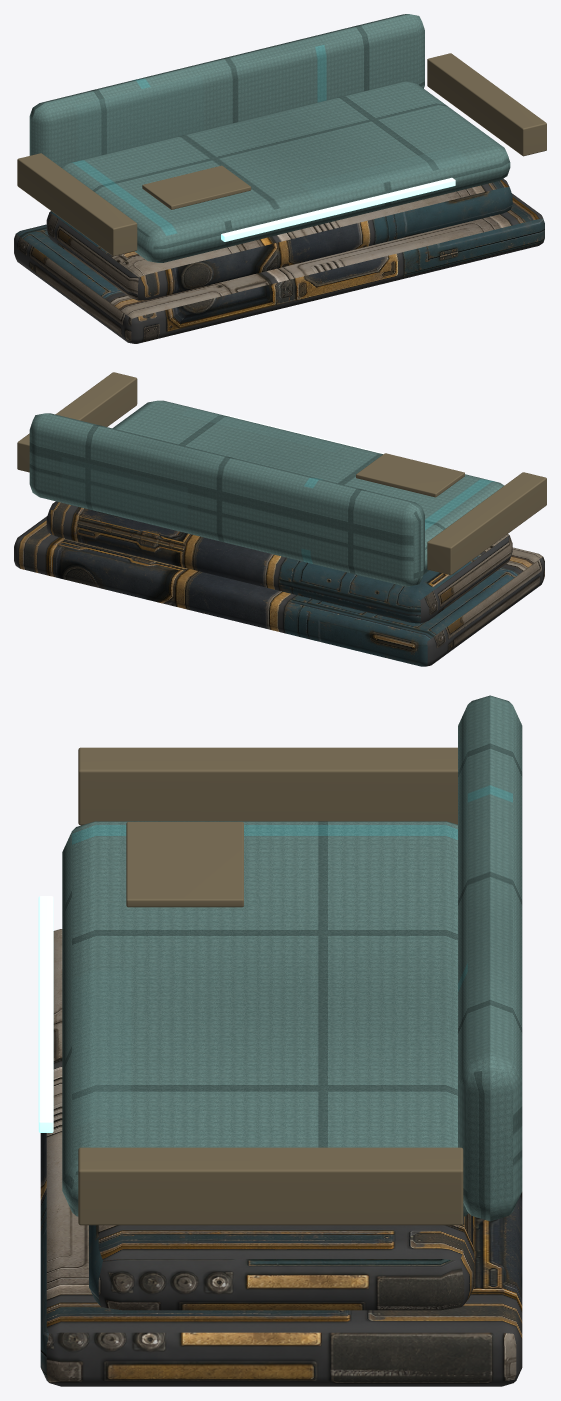
File: hp_room_residential_recovery_bed.glb
3 renders of one model, top to bottom at view 1: azimuth 30°, elevation 25°; view 2: azimuth 150°, elevation 25°; view 3: azimuth 270°, elevation 25°, orthographic. The views are drawn at different scales.
Parts seen in each view (by area): view 1: muted_recovery_mattress, raised_head_panel, clinical_bed_ground_shadow, low_service_base, left_clinical_rail, right_clinical_rail, blank_family_card_tray, bed_cyan_life_strip; view 2: raised_head_panel, clinical_bed_ground_shadow, low_service_base, muted_recovery_mattress, left_clinical_rail, right_clinical_rail, blank_family_card_tray; view 3: muted_recovery_mattress, clinical_bed_ground_shadow, low_service_base, raised_head_panel, right_clinical_rail, left_clinical_rail, blank_family_card_tray, bed_cyan_life_strip.
Part boxes in pixels (x1,y1,x2,y2): muted_recovery_mattress: (61,81,510,262); raised_head_panel: (29,14,424,166); clinical_bed_ground_shadow: (14,193,544,343); low_service_base: (46,178,512,300); left_clinical_rail: (17,153,137,256); right_clinical_rail: (427,53,546,156); blank_family_card_tray: (142,165,251,209); bed_cyan_life_strip: (221,177,455,241); raised_head_panel: (29,413,424,586); clinical_bed_ground_shadow: (14,516,544,666); low_service_base: (46,501,512,623); muted_recovery_mattress: (112,400,504,574); left_clinical_rail: (427,472,546,575); right_clinical_rail: (17,372,137,472); blank_family_card_tray: (356,453,464,497); muted_recovery_mattress: (62,821,468,1216); clinical_bed_ground_shadow: (40,929,522,1386); low_service_base: (89,1213,474,1310); raised_head_panel: (458,695,522,1221); right_clinical_rail: (78,1147,463,1225); left_clinical_rail: (78,747,457,825); blank_family_card_tray: (126,822,243,907); bed_cyan_life_strip: (38,896,53,1132).
Bounding box in the file's own units: 2.26 × 0.7836 × 1.09.
5 materials, 3 textured.
